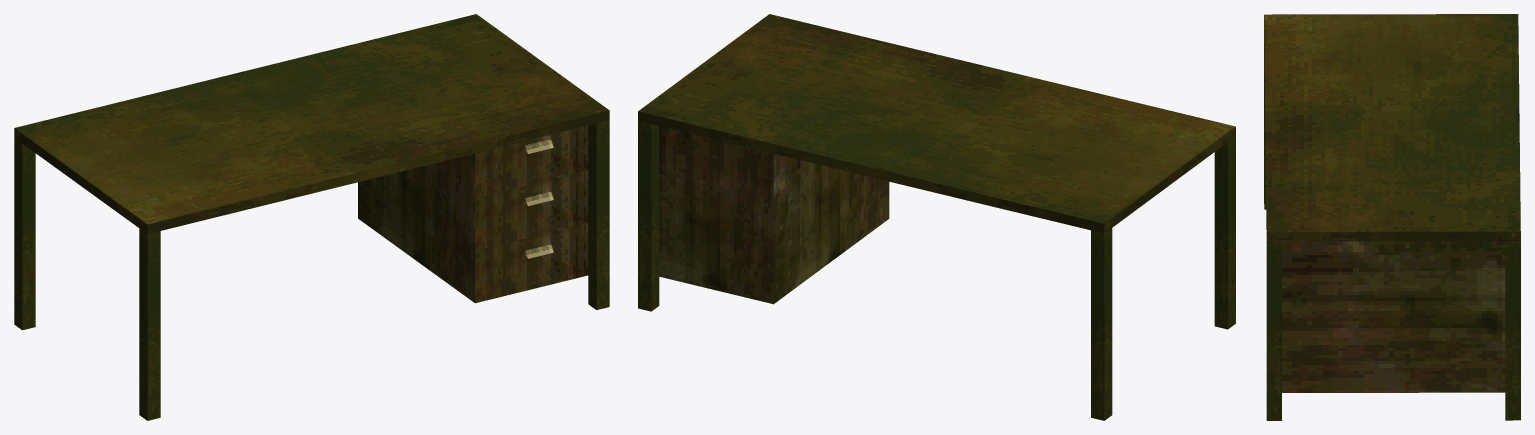
The model's file is indtable.glb.
3 views of the same model, side by side, from view 1: azimuth 30°, elevation 25°; view 2: azimuth 150°, elevation 25°; view 3: azimuth 270°, elevation 25° (orthographic). The views are drawn at different scales.
Parts seen in each view (by area): view 1: desk1_alt2_weathered; view 2: desk1_alt2_weathered; view 3: desk1_alt2_weathered.
Part boxes in pixels (x1,y1,x2,y2): desk1_alt2_weathered: (14, 14, 609, 420); desk1_alt2_weathered: (638, 14, 1235, 420); desk1_alt2_weathered: (1264, 14, 1520, 420).
Bounding box in the file's own units: 2.21 × 0.8911 × 1.1.
Materials: 1 (1 with a texture image).
